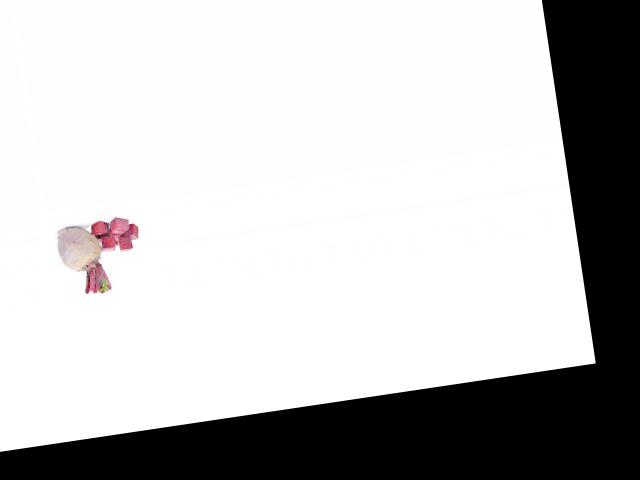beet: (55, 221, 112, 298)
